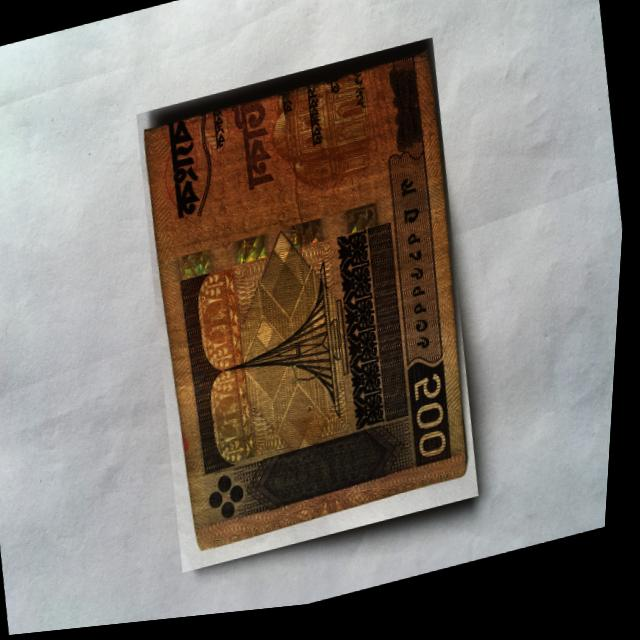Taka: (116, 41, 507, 584)
